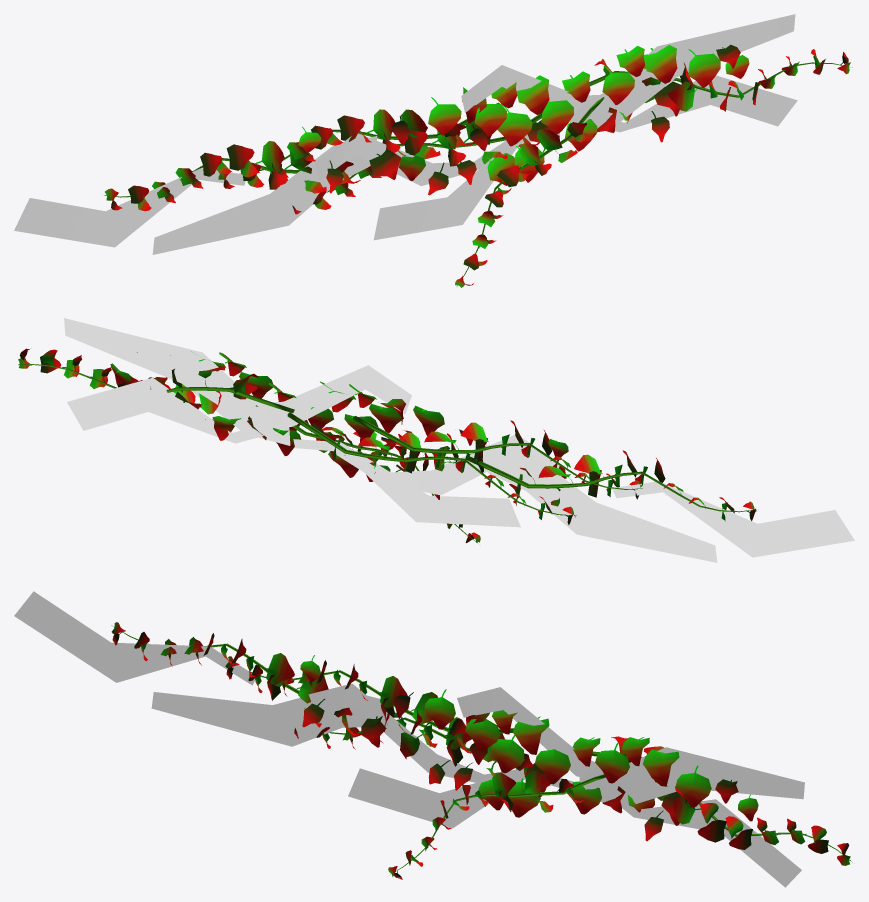
The model's file is Var8_LOD0.fbx.
3 views of the same model, one above another, from view 1: azimuth 30°, elevation 25°; view 2: azimuth 150°, elevation 25°; view 3: azimuth 330°, elevation 25° (orthographic).
Parts seen in each view (by area): view 1: _1780_Var8_LOD0; view 2: _1780_Var8_LOD0; view 3: _1780_Var8_LOD0.
Part boxes in pixels (x1,y1,x2,y2): _1780_Var8_LOD0: (14,14,852,287); _1780_Var8_LOD0: (18,318,854,562); _1780_Var8_LOD0: (14,591,852,887).
Bounding box in the file's own units: 132 × 27.53 × 14.
